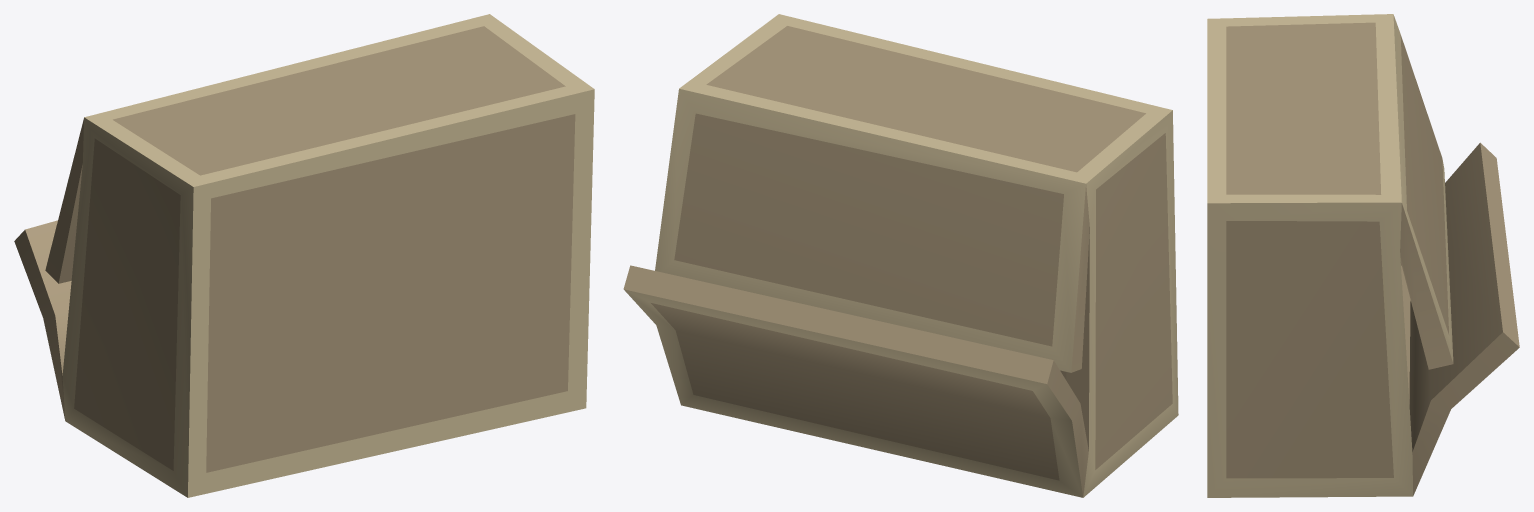
The model's file is BoxC.fbx.
3 renders of one model, left to right at view 1: azimuth 30°, elevation 25°; view 2: azimuth 150°, elevation 25°; view 3: azimuth 270°, elevation 25°, orthographic. The views are drawn at different scales.
Parts seen in each view (by area): view 1: BoxC; view 2: BoxC; view 3: BoxC.
Boxes of the visible parts, x1,y1,x2,y2 form: BoxC: [14, 14, 594, 497]; BoxC: [623, 14, 1178, 497]; BoxC: [1207, 14, 1519, 497].
Bounding box in the file's own units: 72.77 × 51.46 × 48.66.
